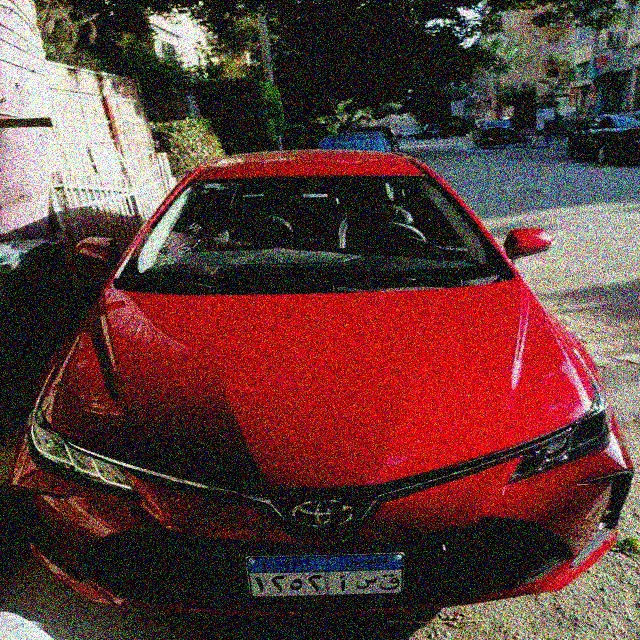License Plate: (242, 551, 406, 602)
